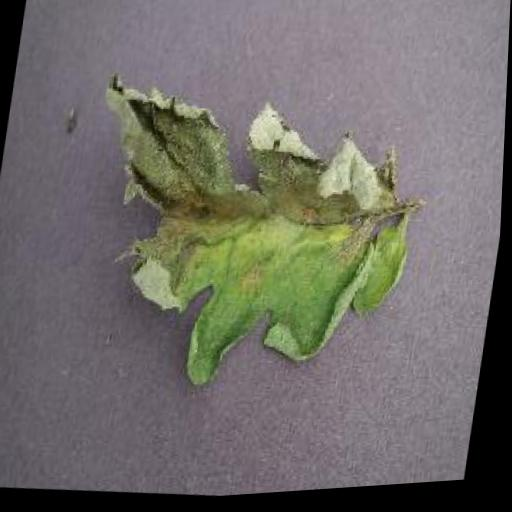Late Blight: (55, 57, 437, 416)
